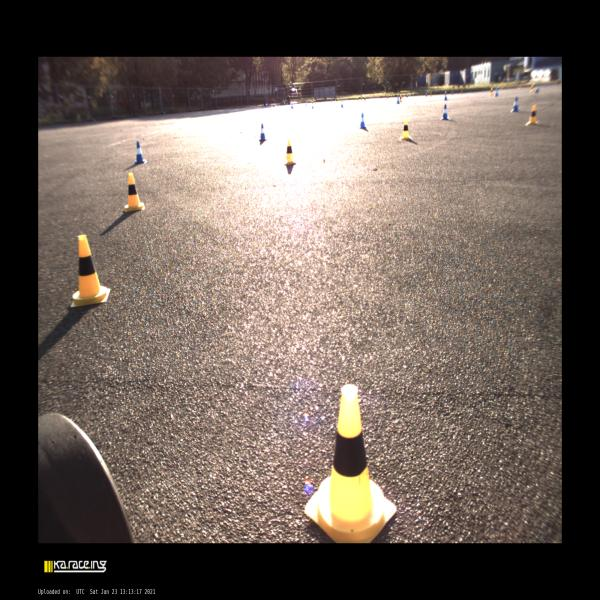blue_cone: (134, 142, 144, 164), (259, 124, 267, 141), (511, 97, 520, 112), (442, 104, 449, 120), (360, 113, 366, 128), (444, 92, 448, 101), (494, 89, 498, 96), (340, 99, 343, 108), (311, 102, 314, 109), (397, 96, 399, 103), (291, 103, 293, 109), (426, 92, 427, 96), (451, 91, 452, 94)
yellow_cone: (303, 383, 397, 543), (71, 236, 110, 306), (124, 172, 144, 212), (285, 140, 296, 164), (400, 120, 410, 139), (526, 105, 536, 124), (490, 88, 493, 95), (399, 95, 402, 102), (364, 96, 366, 102), (430, 92, 432, 97), (461, 89, 462, 94), (357, 97, 358, 102)
